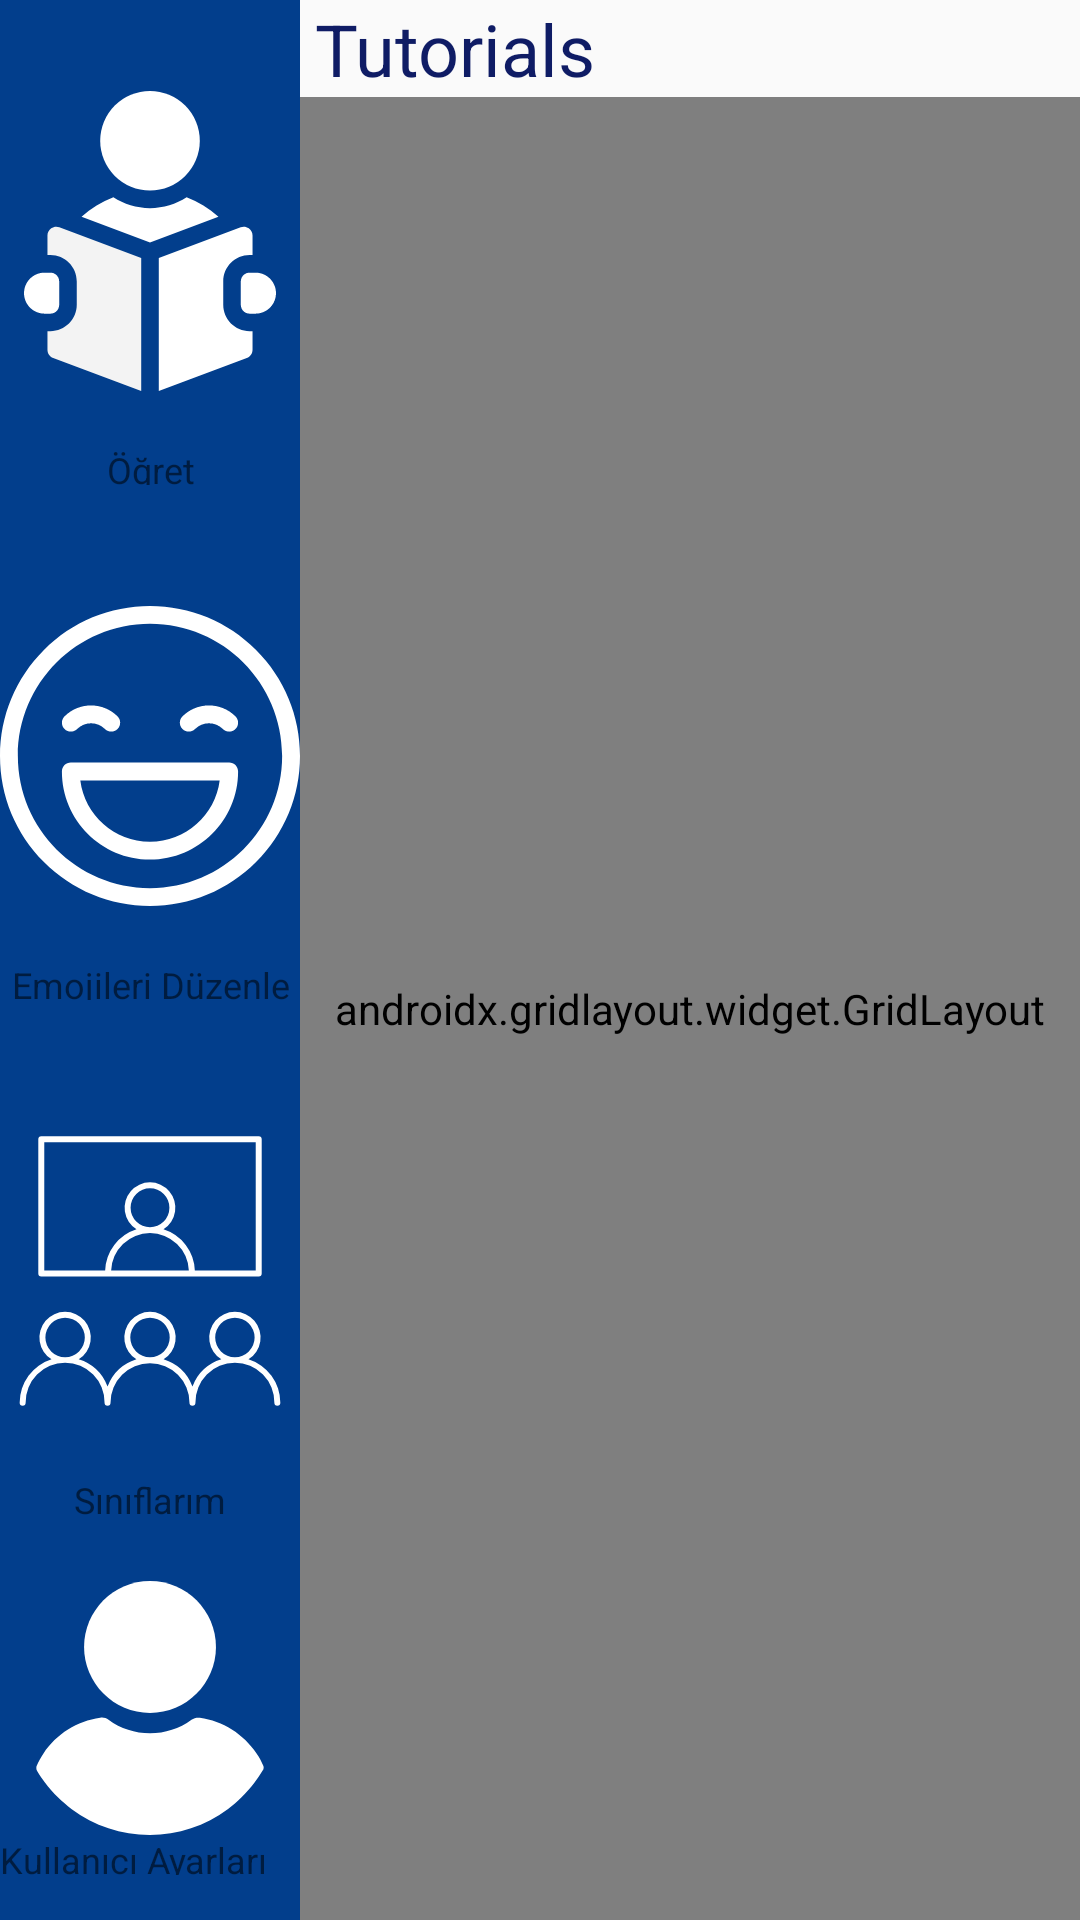

Icon bounding boxes for this 1080×1920 phone screenshot, format (x1, y1, x2, y2):
happy: (0, 606, 300, 906)
